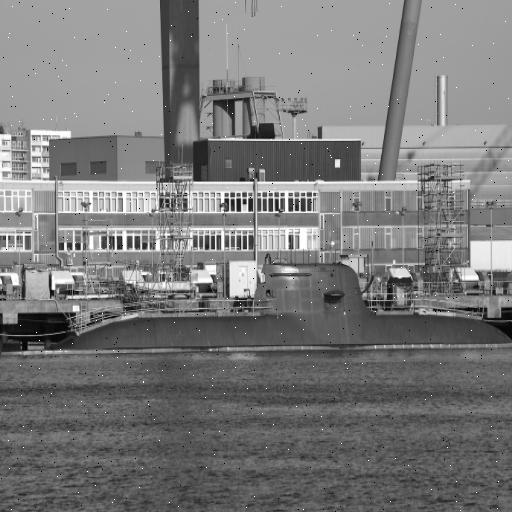submarine: (49, 261, 512, 353)
